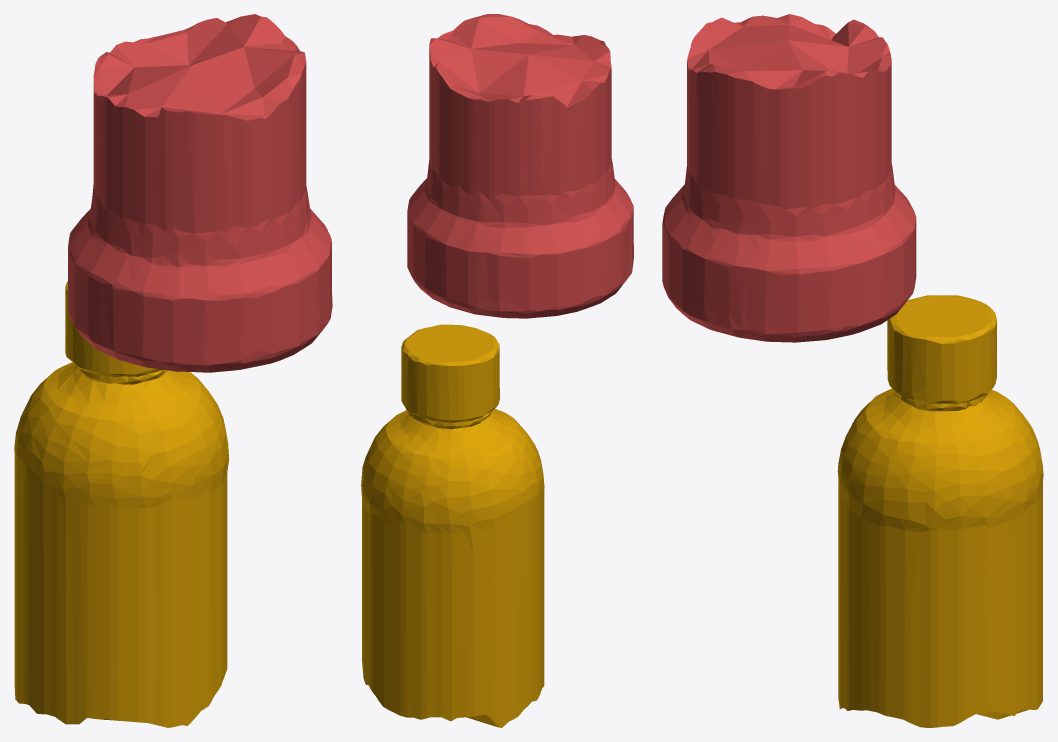
The model's file is fractured_49_2pcs_transformed.glb.
3 views of the same model, side by side, from view 1: azimuth 30°, elevation 25°; view 2: azimuth 150°, elevation 25°; view 3: azimuth 270°, elevation 25° (orthographic). The views are drawn at different scales.
Visible parts, largest first — view 1: piece_1.obj, piece_0.obj; view 2: piece_0.obj, piece_1.obj; view 3: piece_0.obj, piece_1.obj.
Boxes of the visible parts, bbox=[...] form: piece_1.obj: bbox=[68, 14, 332, 372]; piece_0.obj: bbox=[14, 281, 228, 727]; piece_0.obj: bbox=[361, 324, 544, 727]; piece_1.obj: bbox=[407, 14, 633, 318]; piece_0.obj: bbox=[837, 295, 1043, 727]; piece_1.obj: bbox=[662, 14, 916, 342].
Size of the model in its own units: 0.3732 by 1.1 by 0.56.
